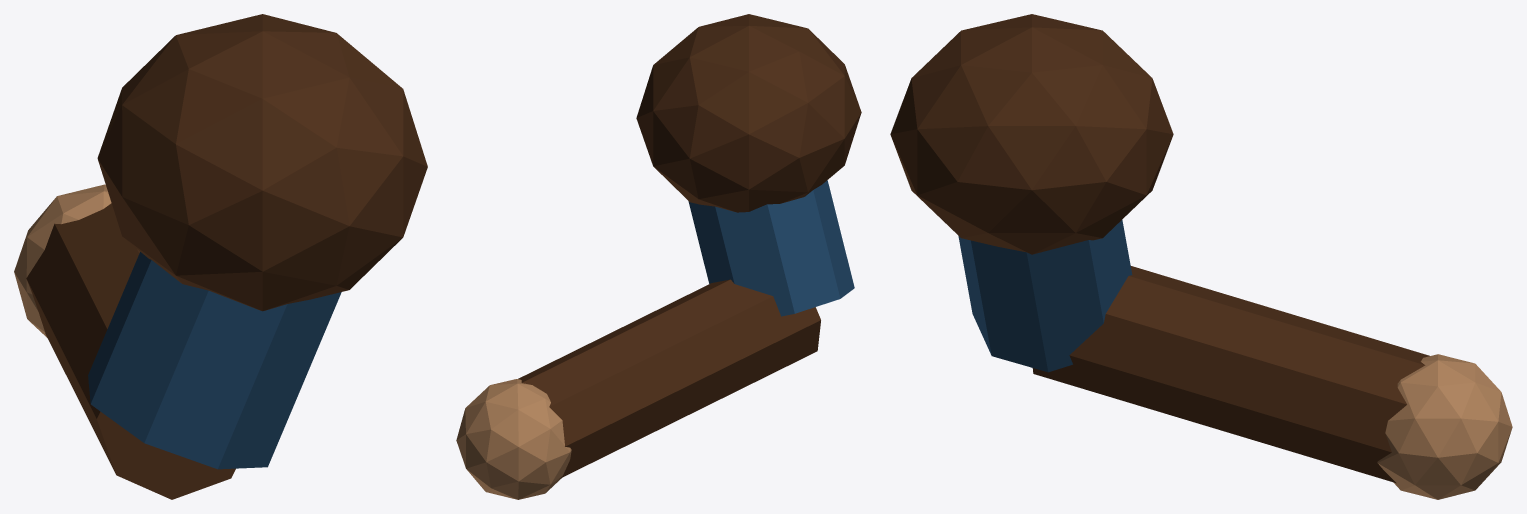
Rendered from ArmLeft.glb.
3 renders of one model, left to right at view 1: azimuth 30°, elevation 25°; view 2: azimuth 150°, elevation 25°; view 3: azimuth 270°, elevation 25°, orthographic. The views are drawn at different scales.
Parts seen in each view (by area): view 1: Sculpture; view 2: Sculpture; view 3: Sculpture.
Boxes of the visible parts, x1=… form: Sculpture: x1=14, y1=14, x2=427, y2=499; Sculpture: x1=456, y1=14, x2=861, y2=499; Sculpture: x1=890, y1=14, x2=1512, y2=499.
Bounding box in the file's own units: 0.3196 × 0.503 × 0.659.
